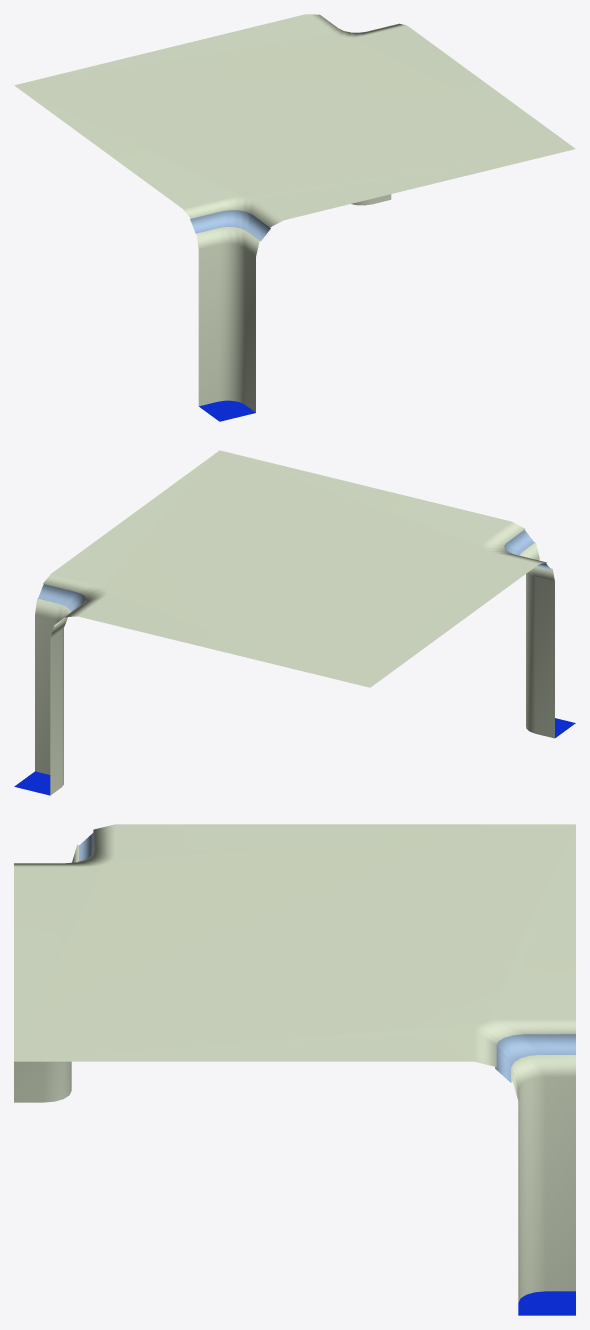
File: Wall_Island_Cross_2.fbx
The picture shows the model from 3 angles, top to bottom: view 1: azimuth 30°, elevation 25°; view 2: azimuth 150°, elevation 25°; view 3: azimuth 270°, elevation 25°; orthographic projection. The views are drawn at different scales.
Visible parts, largest first — view 1: Wall_Island_Cross_2; view 2: Wall_Island_Cross_2; view 3: Wall_Island_Cross_2.
Part boxes in pixels (x1,y1,x2,y2): Wall_Island_Cross_2: (14, 14, 575, 421); Wall_Island_Cross_2: (14, 450, 575, 795); Wall_Island_Cross_2: (14, 824, 575, 1315).
Size of the model in its own units: 100 by 49.85 by 100.
